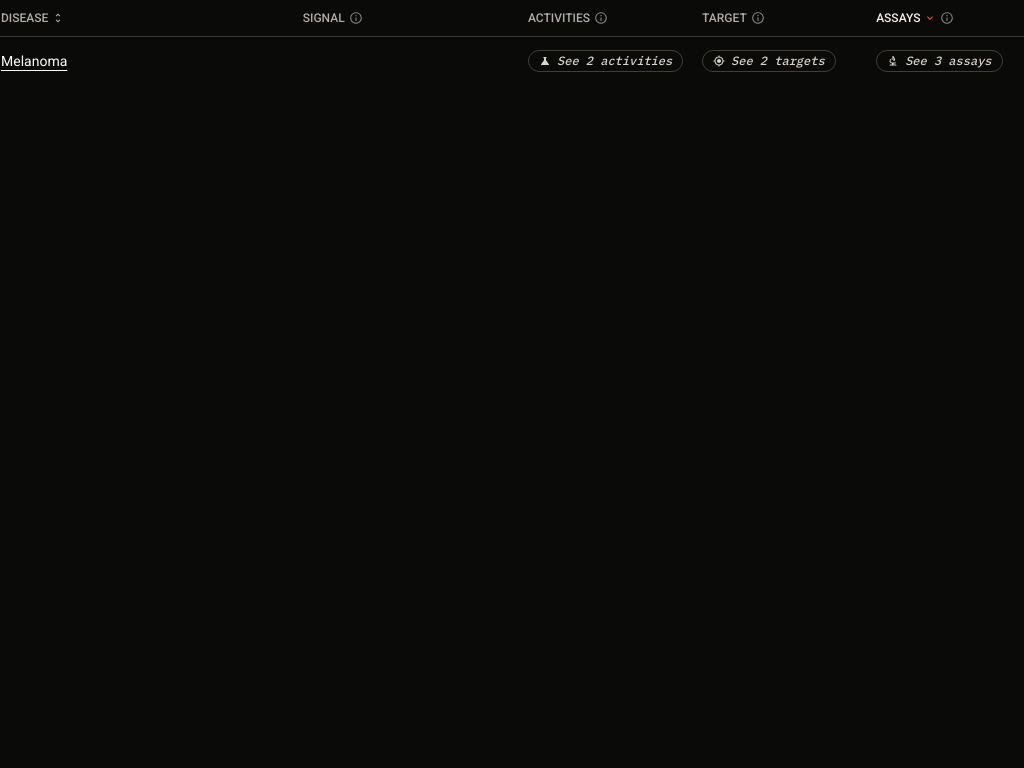
Test: assays › says nothing about capping when the list is complete
This screenshot has width=1024, height=768.
Expected: the link "melanoma" is shown, [1,50,67,70]
Click the button "See 3 assays" at (939,60), box [876,50,1002,72]
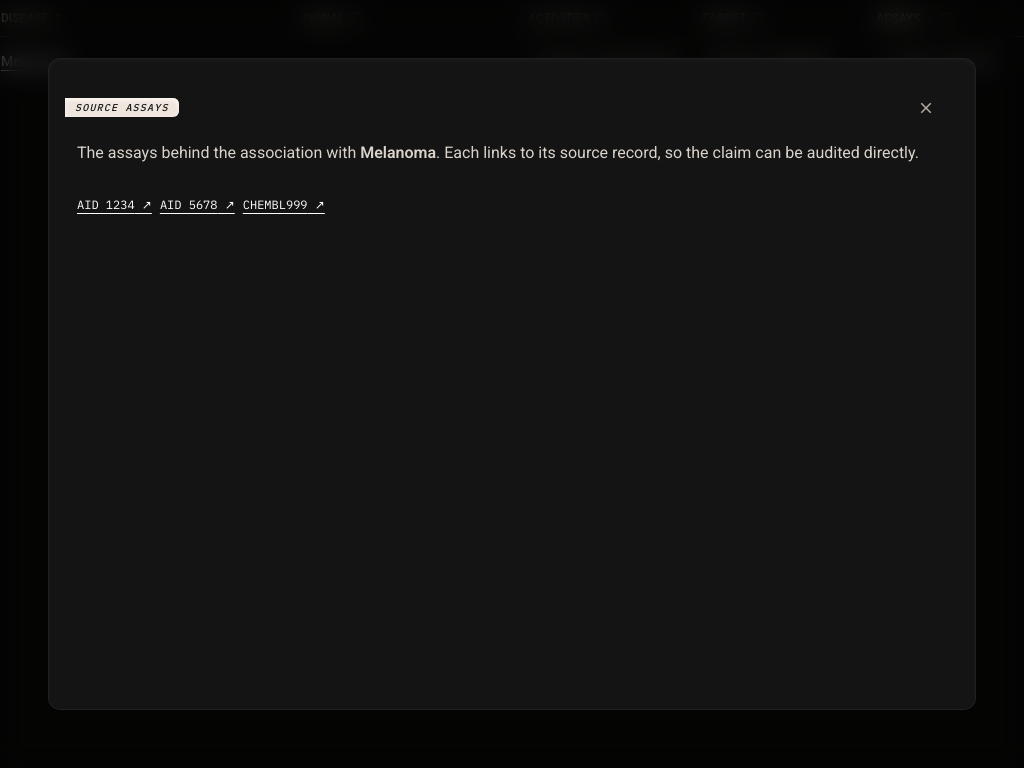
Now the heading "Source assays" is shown, box [65,98,179,117]
Now the link "AID 1234 ↗︎" is shown, box [77,197,152,213]
Now the link "CHEMBL999 ↗︎" is shown, box [243,197,325,213]
